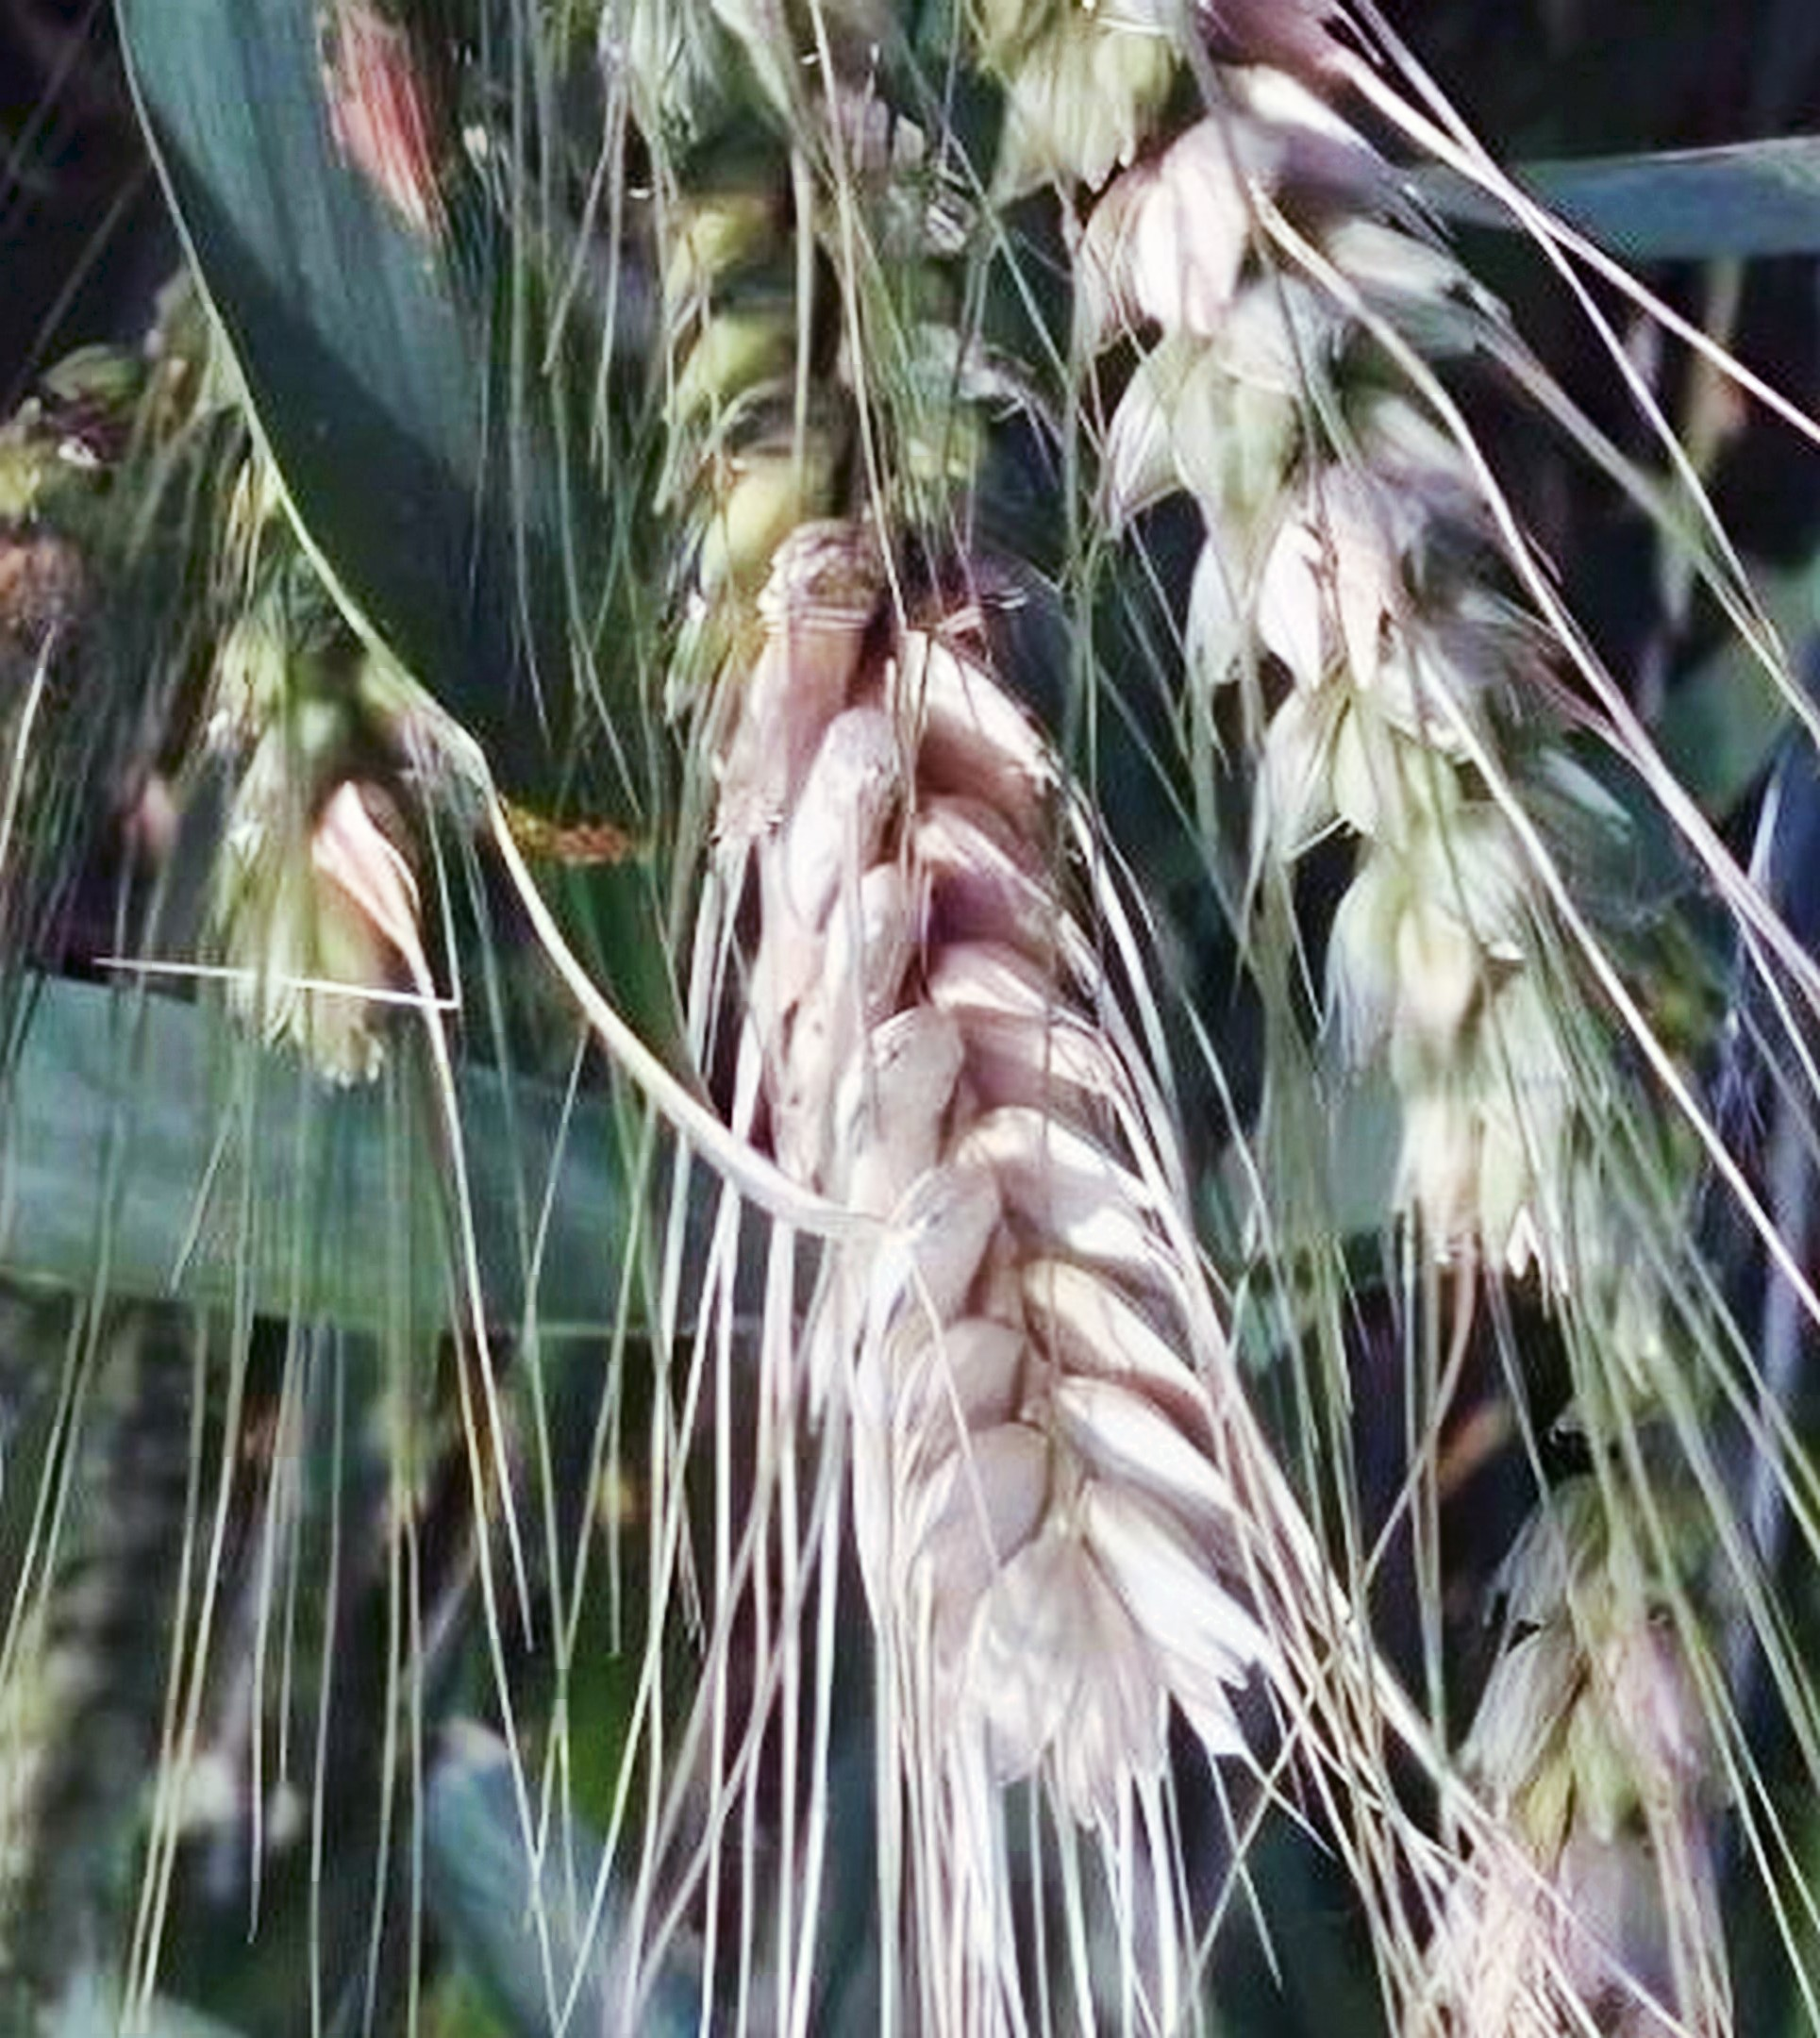Wheat scab: (557, 47, 1260, 1769)
